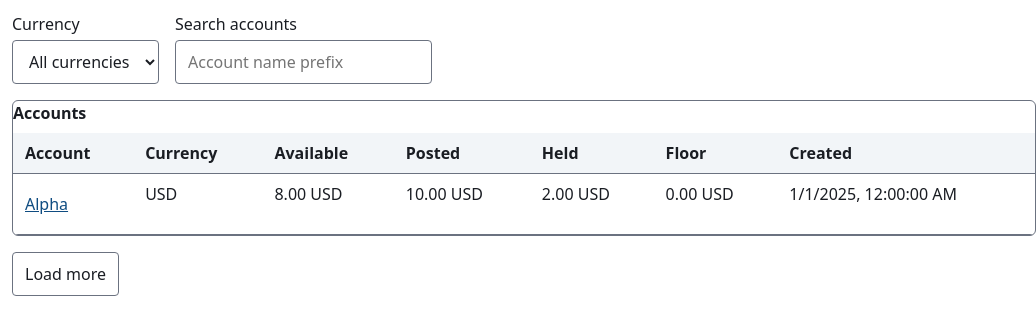
Test: AccountsPage › filter resets cursor
The width and height of the screenshot is (1036, 313).
Check: the button "Alpha" is shown, box top-left (25, 182), bottom-right (68, 226)
Select "EUR" in the dropdown labelled "Currency" at (86, 62), box top-left (12, 40), bottom-right (159, 84)
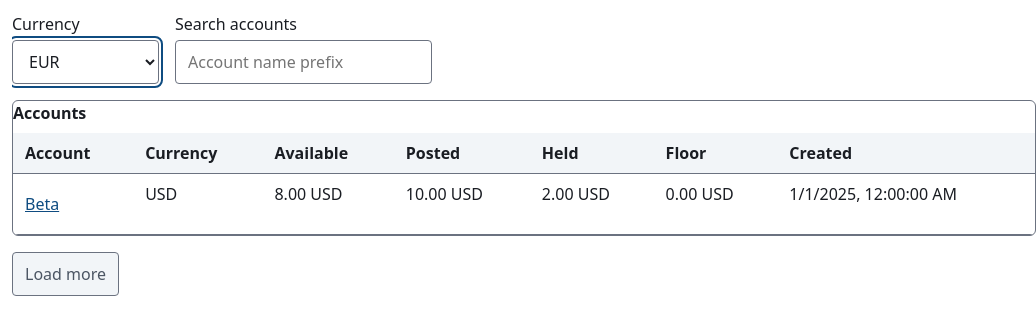
Check: the button "Beta" is shown, box top-left (25, 182), bottom-right (59, 226)
Check: the button "Alpha" is gone
